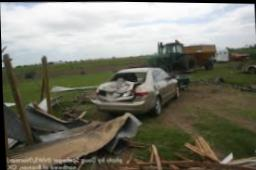Bumper: (94, 99, 155, 114)
Dickey: (97, 80, 144, 102)
Windshield: (108, 72, 145, 83)
